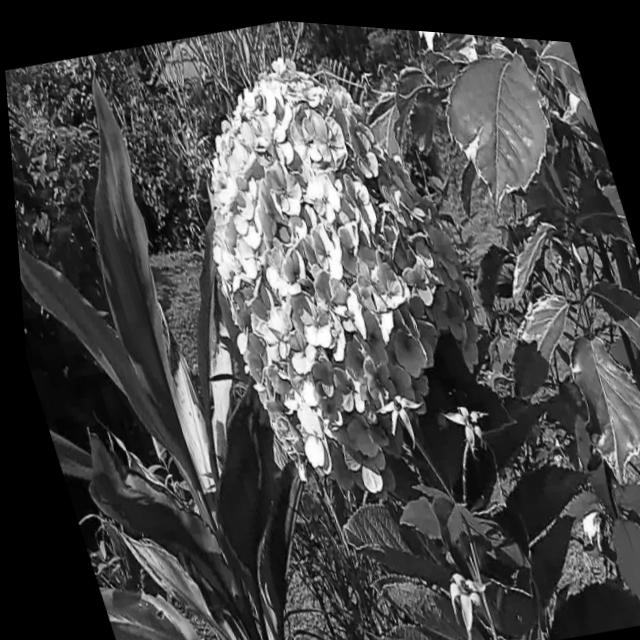Flower: (145, 8, 519, 509)
